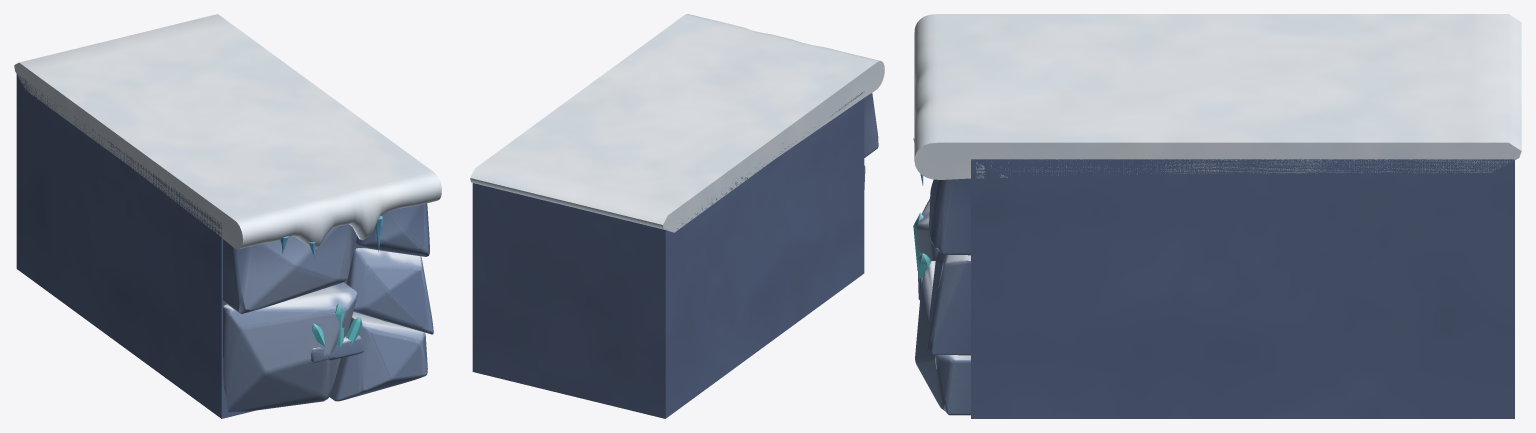
Rendered from FP_T01_SnowCliffCore_V3.fbx.
3 renders of one model, left to right at view 1: azimuth 30°, elevation 25°; view 2: azimuth 150°, elevation 25°; view 3: azimuth 270°, elevation 25°, orthographic. The views are drawn at different scales.
Parts seen in each view (by area): view 1: Rock, SnowCap; view 2: Rock, SnowCap; view 3: Rock, SnowCap.
Part boxes in pixels (x1,y1,x2,y2): Rock: (16,73,433,418); SnowCap: (14,14,441,258); Rock: (472,91,878,418); SnowCap: (470,14,884,232); Rock: (913,159,1514,418); SnowCap: (913,14,1521,185).
Size of the model in its own units: 2 by 2.01 by 3.99.
